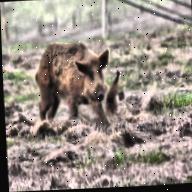boar: (32, 39, 113, 131)
